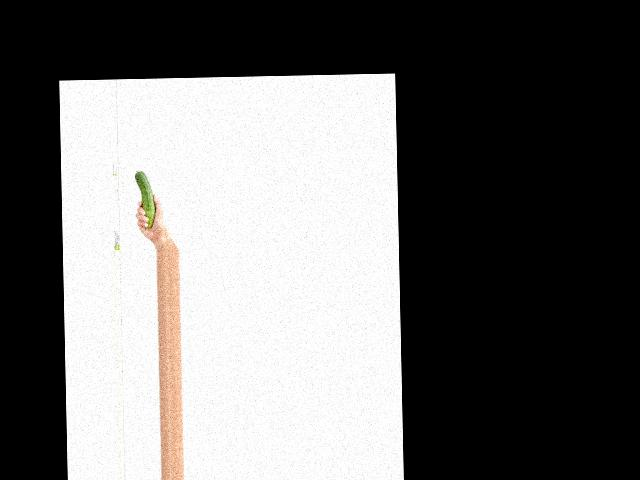cucumber: (134, 170, 154, 228)
